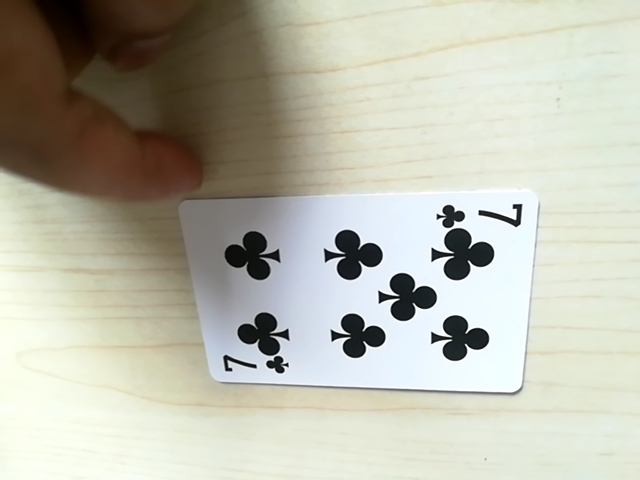mh 7: (432, 196, 525, 230), (215, 351, 288, 384)
